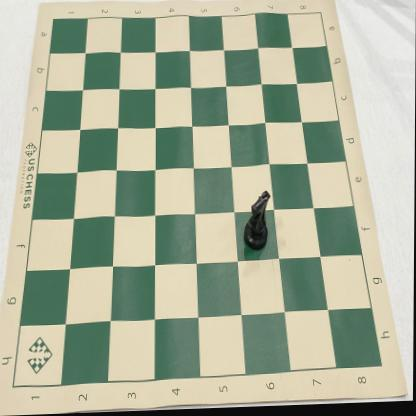black-knight: (243, 191, 271, 255)
